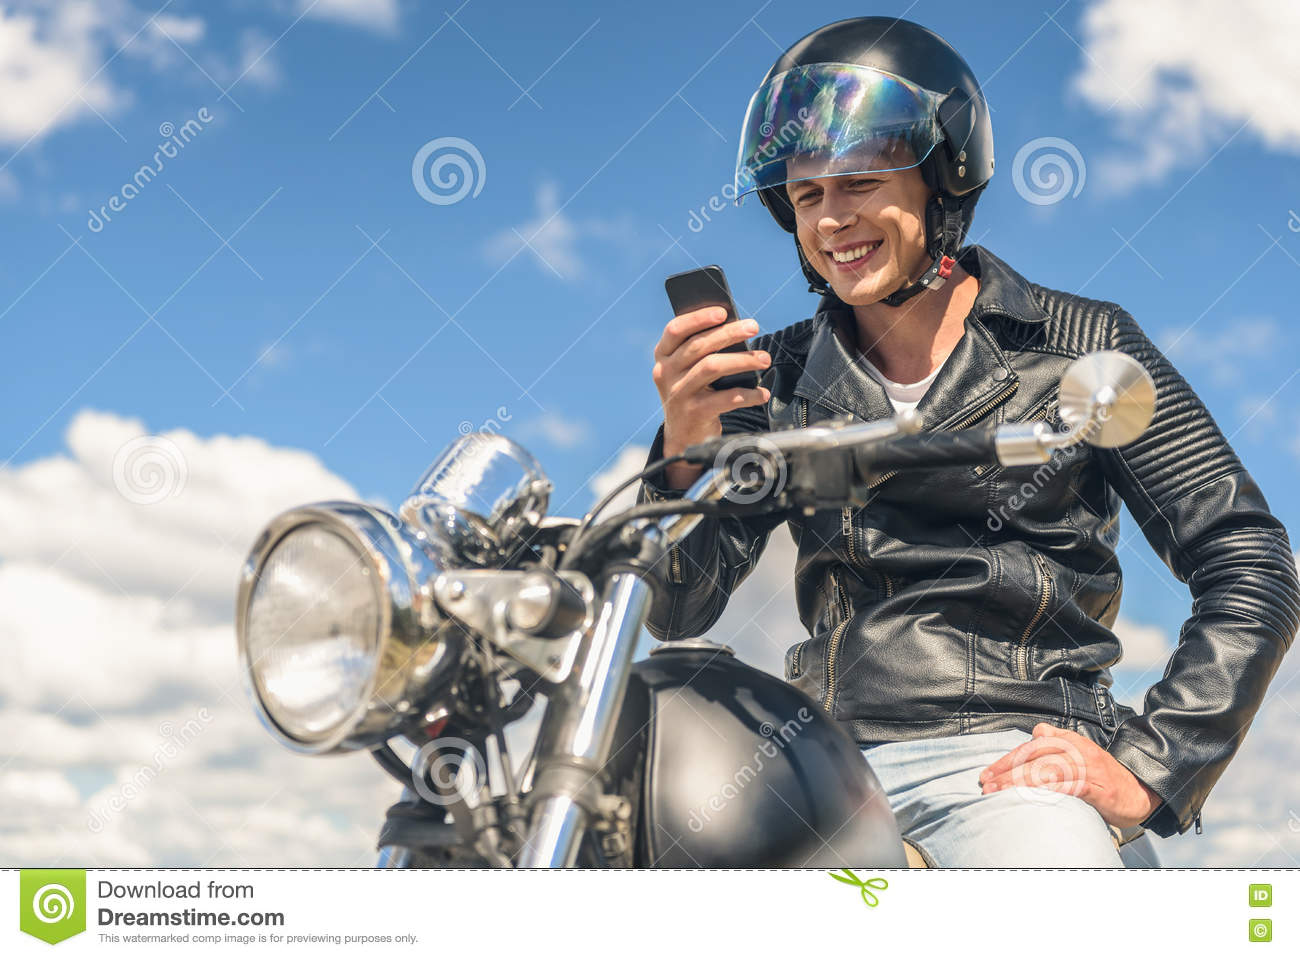helmet: (743, 19, 1008, 220)
